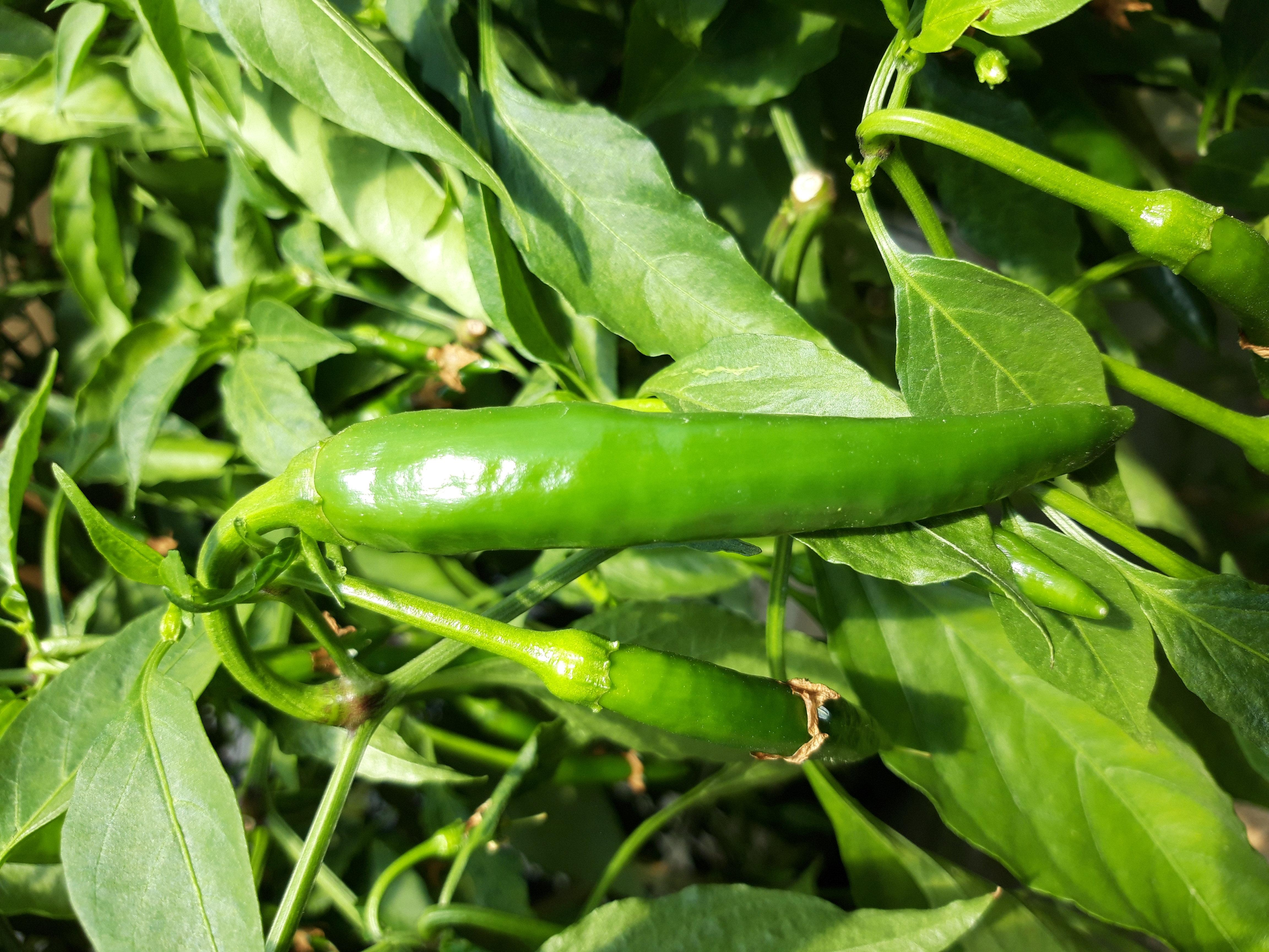Buah Cabai Sehat: (195, 395, 1139, 604), (520, 618, 872, 786)
Daun Cabai Sehat: (826, 541, 1269, 952), (465, 62, 845, 371)
